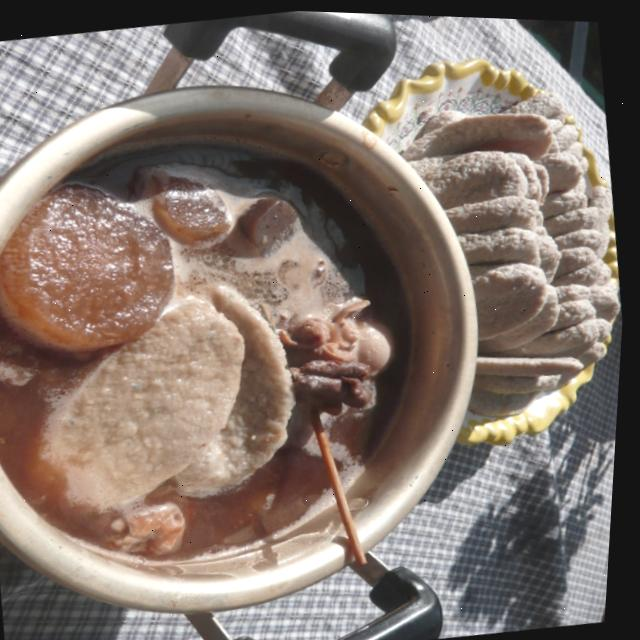汤锅炖物: (0, 147, 424, 532)
